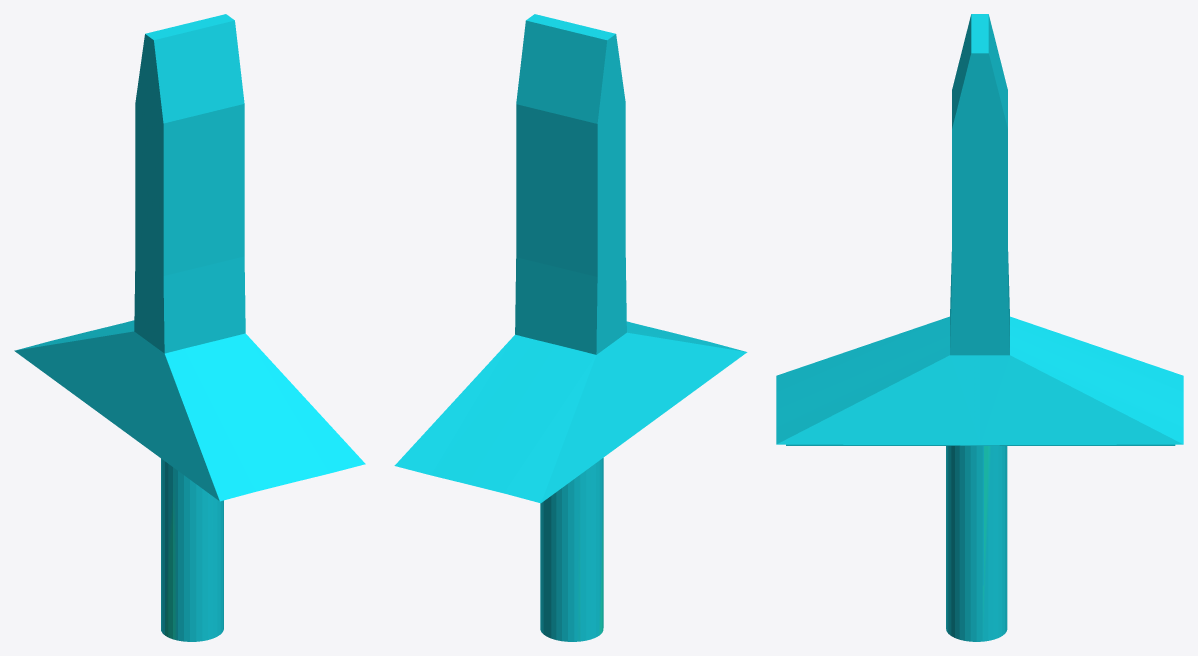
The model's file is hammer.obj.
The picture shows the model from 3 angles, left to right: view 1: azimuth 30°, elevation 25°; view 2: azimuth 150°, elevation 25°; view 3: azimuth 270°, elevation 25°; orthographic projection.
Visible parts, largest first — view 1: 立方体.001; view 2: 立方体.001; view 3: 立方体.001.
Part boxes in pixels (x1,y1,x2,y2): 立方体.001: (14,14,365,641); 立方体.001: (394,14,747,641); 立方体.001: (776,14,1183,641).
Bounding box in the file's own units: 2.1 × 8.27 × 5.14.
Materials: 3 (3 with a texture image).
